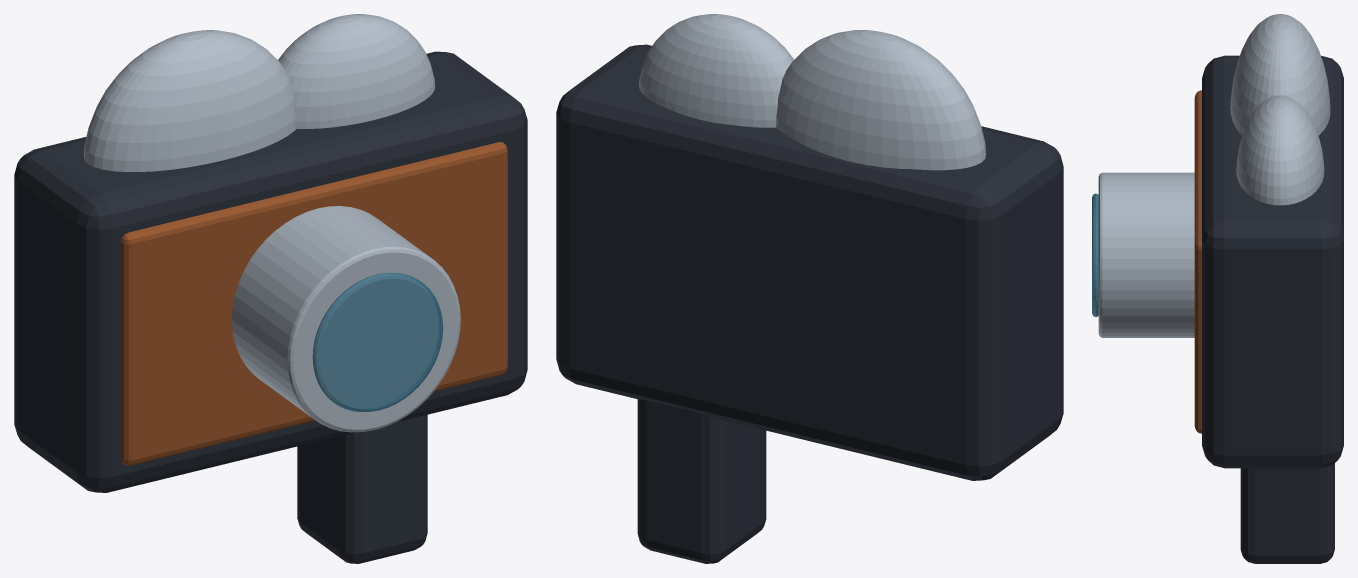
The model's file is camera-super-8.glb.
The picture shows the model from 3 angles, left to right: view 1: azimuth 30°, elevation 25°; view 2: azimuth 150°, elevation 25°; view 3: azimuth 270°, elevation 25°; orthographic projection. The views are drawn at different scales.
Visible parts, largest first — view 1: Corps, Gainage, Objectif, Bobine, Poignee, Lentille, Bobine2; view 2: Corps, Bobine, Poignee, Bobine2; view 3: Corps, Objectif, Poignee, Bobine, Bobine2, Gainage, Lentille.
Boxes of the visible parts, left/top/right/bottom form: Corps: left=14, top=51, right=527, bottom=492; Gainage: left=120, top=142, right=507, bottom=465; Objectif: left=231, top=206, right=460, bottom=432; Bobine: left=83, top=30, right=296, bottom=171; Poignee: left=297, top=414, right=427, bottom=563; Lentille: left=312, top=273, right=443, bottom=411; Bobine2: left=278, top=14, right=435, bottom=128; Corps: left=556, top=44, right=1063, bottom=480; Bobine: left=776, top=30, right=986, bottom=170; Poignee: left=637, top=399, right=766, bottom=563; Bobine2: left=639, top=14, right=794, bottom=127; Corps: left=1202, top=55, right=1343, bottom=468; Objectif: left=1098, top=172, right=1194, bottom=337; Poignee: left=1240, top=463, right=1334, bottom=563; Bobine: left=1230, top=14, right=1330, bottom=135; Bobine2: left=1236, top=95, right=1324, bottom=205; Gainage: left=1194, top=90, right=1201, bottom=433; Lentille: left=1092, top=193, right=1098, bottom=316.
Size of the model in its own units: 2.9 by 3.42 by 1.71.
